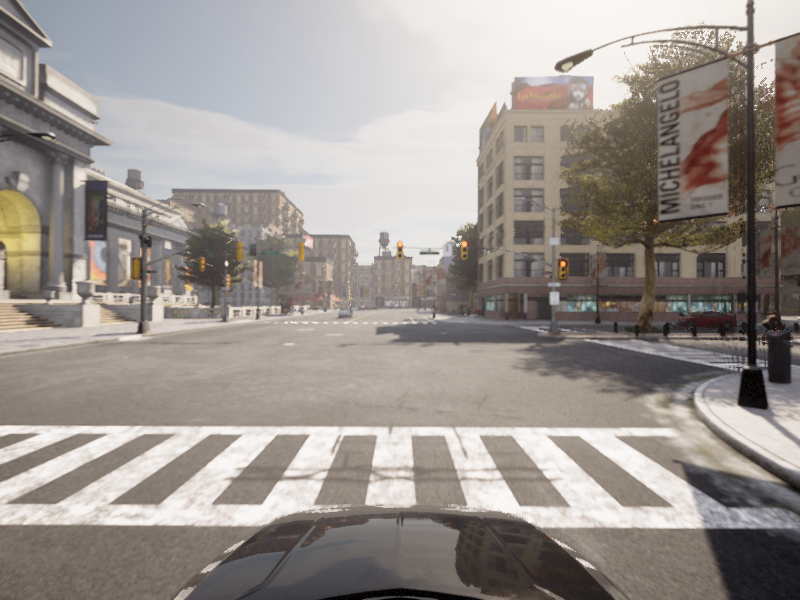vehicle: (665, 310, 741, 330), (751, 311, 794, 344)
